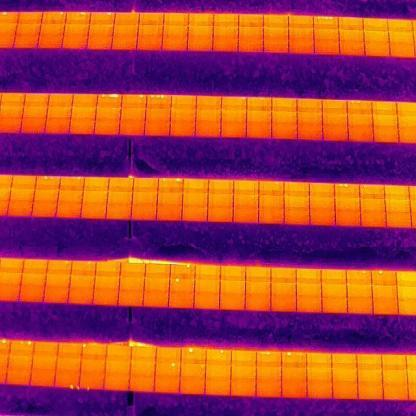Diode: (97, 94, 122, 108)
Hotspot: (80, 370, 105, 390), (54, 370, 80, 388), (155, 361, 181, 377), (170, 278, 194, 294), (347, 270, 372, 285), (10, 341, 35, 356), (334, 184, 360, 198), (170, 264, 196, 278), (371, 272, 397, 286), (256, 350, 282, 364), (222, 97, 247, 111), (347, 101, 372, 115), (36, 176, 61, 190), (158, 178, 183, 192), (60, 176, 84, 190), (122, 94, 146, 107), (146, 95, 170, 108), (90, 12, 116, 24), (82, 344, 108, 356), (314, 17, 339, 29), (66, 12, 90, 24), (42, 12, 66, 24), (282, 352, 306, 364), (206, 349, 231, 360), (182, 349, 206, 360)
Normal: (104, 370, 130, 390), (230, 378, 256, 398), (256, 379, 282, 399), (43, 116, 70, 134), (230, 362, 256, 380), (306, 367, 332, 385), (130, 372, 156, 390), (281, 380, 307, 398), (19, 117, 46, 134), (334, 211, 362, 227), (104, 356, 132, 372), (382, 369, 408, 386), (383, 384, 409, 401), (281, 364, 308, 380), (206, 377, 230, 395), (357, 353, 382, 370), (6, 201, 34, 216), (80, 204, 108, 219), (284, 208, 310, 224), (310, 210, 336, 226), (68, 288, 94, 304), (143, 292, 169, 308), (347, 298, 373, 314), (306, 352, 332, 368), (382, 354, 408, 370), (332, 354, 358, 370), (130, 357, 156, 373), (256, 363, 282, 379), (30, 370, 56, 386), (156, 376, 182, 392), (332, 384, 358, 400), (358, 369, 382, 386), (245, 268, 272, 283), (80, 355, 107, 370), (221, 110, 246, 126), (196, 122, 221, 138), (96, 262, 121, 278), (44, 288, 69, 304), (297, 297, 322, 313), (181, 360, 206, 376), (6, 368, 31, 384), (332, 370, 357, 386), (181, 377, 206, 393), (307, 384, 332, 400), (358, 384, 383, 400), (246, 111, 272, 126), (69, 119, 95, 134), (119, 121, 145, 136), (144, 121, 170, 136), (272, 125, 298, 140), (322, 127, 348, 142), (297, 127, 323, 142), (334, 198, 360, 213), (360, 198, 386, 213), (385, 199, 411, 214), (106, 204, 132, 219), (131, 206, 157, 221), (233, 207, 259, 222), (260, 209, 286, 224), (360, 213, 386, 228), (271, 269, 297, 284), (194, 280, 220, 295), (346, 285, 372, 300), (271, 297, 297, 312), (8, 355, 34, 370), (221, 266, 245, 282), (246, 282, 270, 298), (373, 299, 397, 315), (34, 341, 58, 357), (206, 362, 230, 378), (9, 188, 36, 202), (82, 191, 109, 205), (182, 194, 209, 208), (182, 207, 209, 221), (364, 42, 391, 56), (339, 42, 366, 56), (389, 42, 416, 56), (234, 180, 259, 195), (132, 192, 157, 207), (32, 203, 57, 218), (121, 263, 146, 278), (119, 278, 144, 293), (246, 297, 271, 312), (48, 94, 74, 108), (246, 97, 272, 111), (272, 99, 298, 113), (322, 100, 348, 114), (272, 112, 298, 126), (296, 114, 322, 128), (170, 122, 196, 136), (183, 180, 209, 194), (258, 181, 284, 195), (308, 184, 334, 198), (157, 192, 183, 206), (259, 196, 285, 210), (284, 196, 310, 210), (264, 14, 290, 28), (156, 207, 182, 221), (208, 207, 234, 221), (386, 214, 412, 228), (46, 261, 72, 275), (322, 270, 348, 284), (45, 274, 71, 288), (68, 276, 94, 290), (144, 278, 170, 292), (322, 284, 348, 298), (118, 292, 144, 306), (169, 294, 195, 308), (194, 294, 220, 308), (219, 296, 245, 310), (322, 298, 348, 312), (32, 356, 58, 370), (162, 38, 188, 52), (122, 106, 146, 121), (374, 127, 398, 142), (209, 179, 233, 194), (146, 263, 170, 278), (221, 281, 245, 296), (20, 287, 44, 302), (72, 94, 97, 108), (297, 100, 322, 114), (96, 107, 121, 121), (349, 127, 374, 141), (284, 182, 309, 196), (360, 184, 385, 198), (385, 186, 410, 200), (107, 191, 132, 205), (297, 270, 322, 284), (94, 277, 119, 291), (297, 284, 322, 298), (93, 290, 118, 304), (239, 26, 264, 40), (112, 36, 137, 50), (233, 195, 259, 208), (288, 16, 314, 29), (14, 24, 40, 37), (288, 28, 314, 41), (314, 29, 340, 42), (56, 357, 82, 370), (62, 36, 88, 49), (188, 38, 214, 51), (134, 178, 158, 192), (58, 190, 82, 204), (58, 204, 82, 218), (72, 262, 96, 276), (196, 266, 220, 280), (22, 274, 46, 288), (58, 342, 82, 356), (88, 37, 112, 51), (24, 94, 49, 107), (373, 102, 398, 115), (146, 109, 171, 122), (94, 121, 119, 134), (84, 177, 109, 190), (164, 13, 189, 26), (208, 194, 233, 207), (372, 285, 397, 298), (40, 23, 65, 36), (89, 24, 114, 37), (232, 350, 257, 363), (339, 29, 364, 42), (239, 39, 264, 52), (245, 126, 272, 138), (22, 106, 48, 118), (71, 107, 97, 119), (46, 107, 72, 119), (170, 110, 196, 122), (322, 115, 348, 127), (348, 115, 374, 127), (10, 176, 36, 188), (188, 14, 214, 26), (338, 18, 364, 30), (364, 18, 388, 31), (271, 284, 297, 296), (138, 25, 164, 37), (188, 26, 214, 38), (214, 26, 238, 39), (156, 348, 182, 360), (38, 36, 62, 49), (214, 39, 238, 52), (24, 260, 46, 274), (196, 97, 221, 109), (171, 98, 196, 110), (221, 126, 246, 138), (17, 12, 42, 24), (108, 179, 133, 191), (139, 13, 164, 25), (214, 14, 239, 26), (239, 14, 264, 26), (388, 20, 413, 32), (63, 24, 88, 36), (114, 25, 139, 37), (164, 26, 189, 38), (264, 28, 289, 40), (107, 346, 132, 358), (137, 38, 162, 50), (264, 40, 289, 52), (35, 190, 58, 203), (115, 13, 139, 25), (14, 38, 38, 50), (309, 198, 335, 209), (364, 31, 390, 42), (288, 42, 314, 53), (314, 42, 340, 53), (196, 110, 221, 121), (373, 115, 398, 126), (132, 347, 156, 358), (389, 32, 414, 42)
